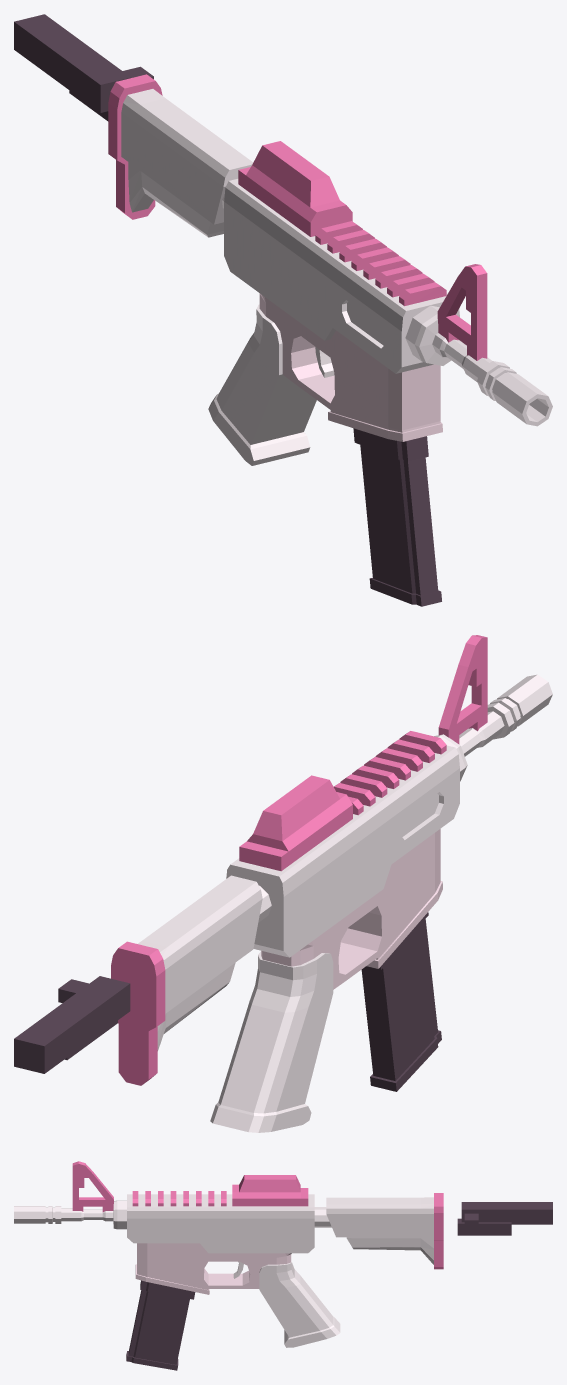
Rendered from AssaultRifle2_4.obj.
3 views of the same model, one above another, from view 1: azimuth 30°, elevation 25°; view 2: azimuth 150°, elevation 25°; view 3: azimuth 270°, elevation 25° (orthographic). The views are drawn at different scales.
Visible parts, largest first — view 1: Body, Grip, Panel, Mag, Bolt; view 2: Body, Grip, Panel, Mag, Bolt; view 3: Body, Grip, Panel, Mag, Bolt, Hardware.
Part boxes in pixels (box(x1,y1,x2,y2)): Body: box(121, 89, 552, 465); Grip: box(108, 74, 487, 360); Panel: box(259, 293, 442, 441); Mag: box(353, 428, 441, 606); Bolt: box(14, 14, 153, 112); Body: box(138, 674, 552, 1132); Grip: box(111, 635, 487, 1085); Panel: box(261, 829, 442, 989); Mag: box(361, 912, 441, 1091); Bolt: box(14, 976, 130, 1073); Body: box(14, 1194, 433, 1347); Grip: box(72, 1161, 443, 1269); Panel: box(135, 1243, 291, 1294); Mag: box(126, 1280, 195, 1370); Bolt: box(461, 1202, 552, 1227); Hardware: box(457, 1218, 511, 1235).
Size of the model in its own units: 0.5609 by 2.89 by 6.9.
